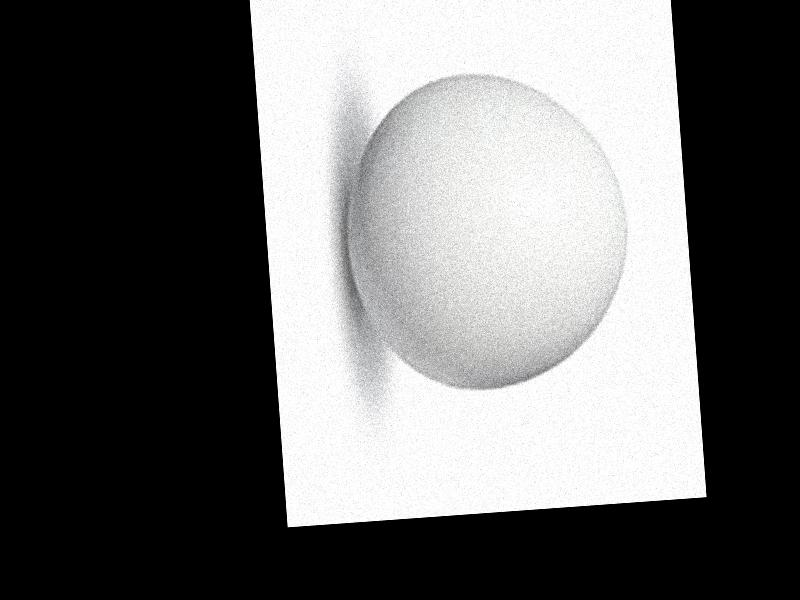Eggs: (337, 65, 639, 393)
